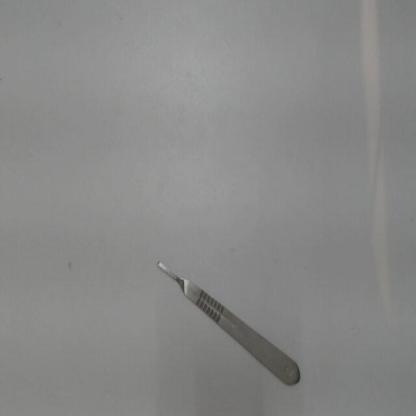No.3 BP Handle: (154, 246, 308, 394)
